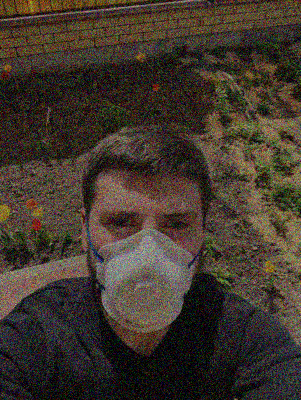with_mask: (91, 188, 201, 334)
